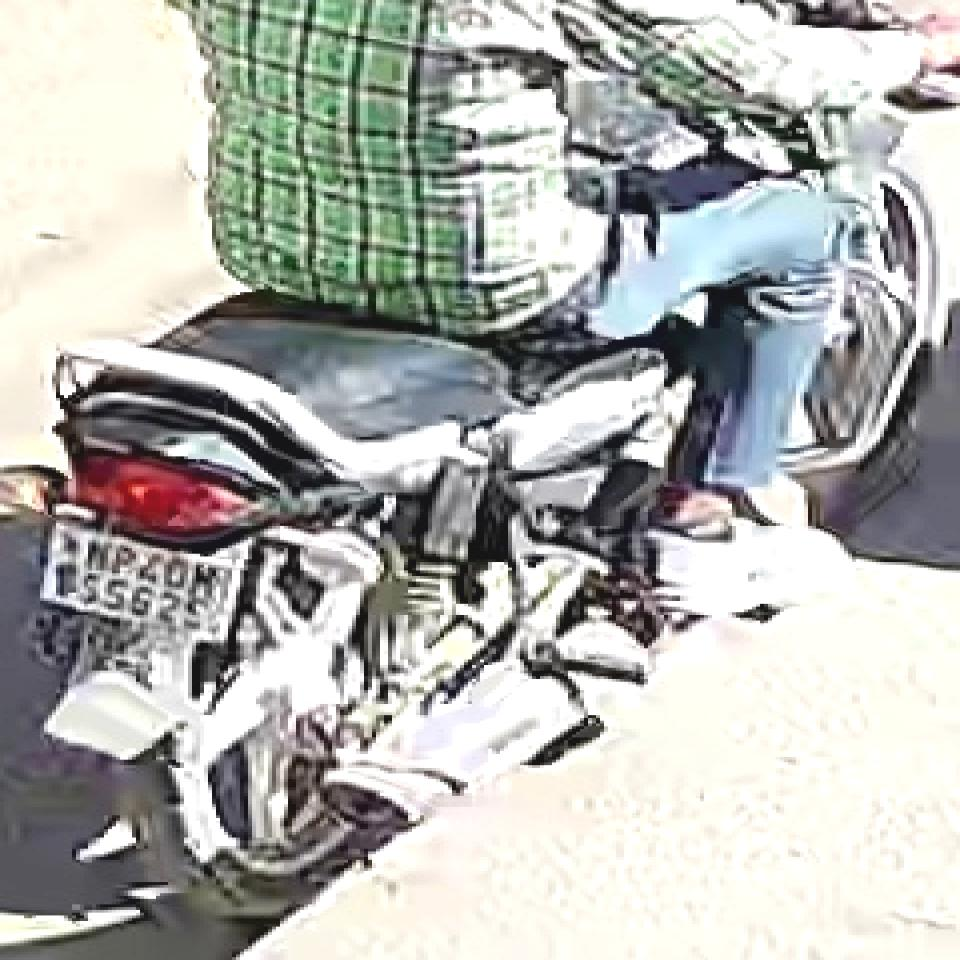tail_light: (62, 443, 253, 521)
